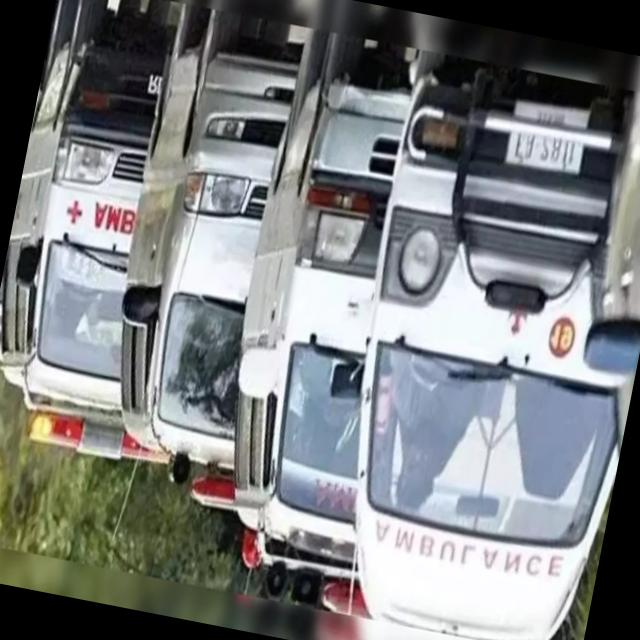ambulance: (307, 37, 640, 640), (179, 0, 449, 620), (0, 0, 190, 498)
